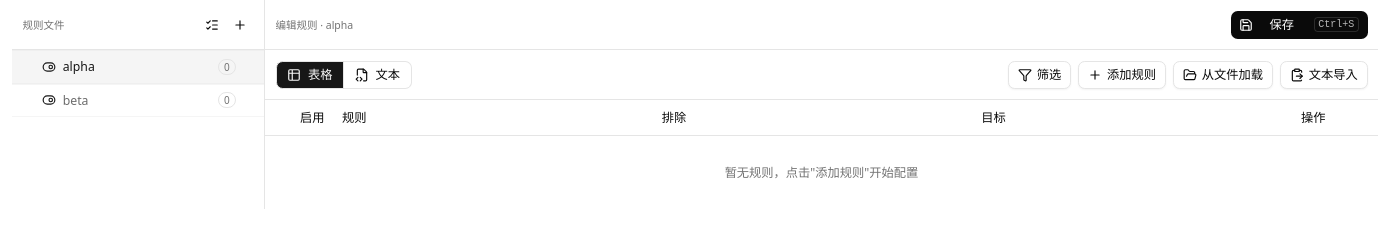
Scenario: RuleConfig rule-file tab drag handle › keeps double-click rename on the tab name without requiring the handle
This screenshot has width=1378, height=226.
Step 1. Double-click the text "alpha" → (79, 66), box [63,58,95,75]
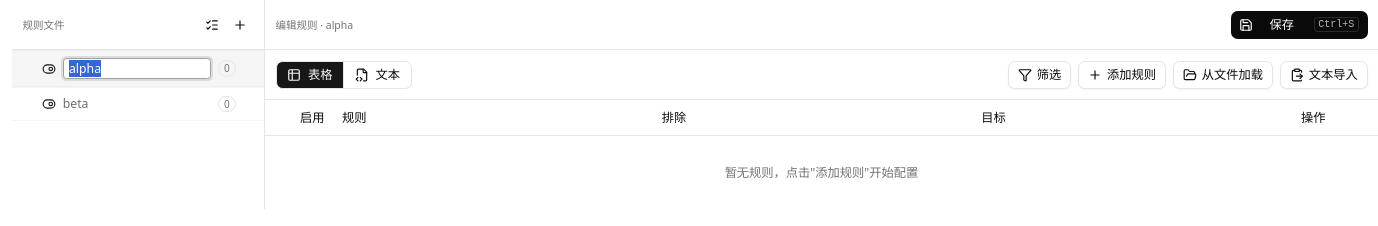
Check: the field named "重命名规则文件 alpha" is shown, box [63,58,211,79]
